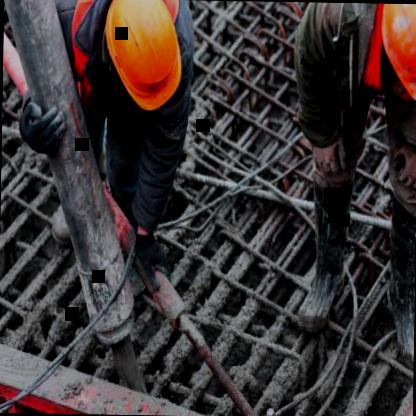helmet: (93, 0, 187, 125), (365, 2, 416, 128)
